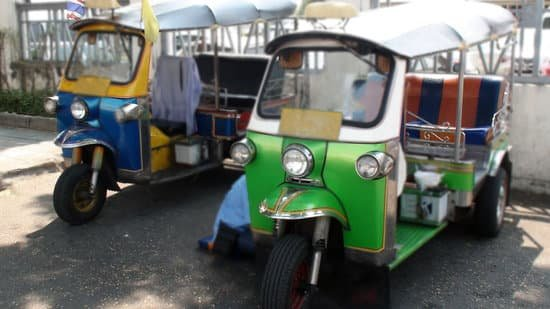threewheel: (229, 1, 518, 309), (43, 1, 295, 225)
